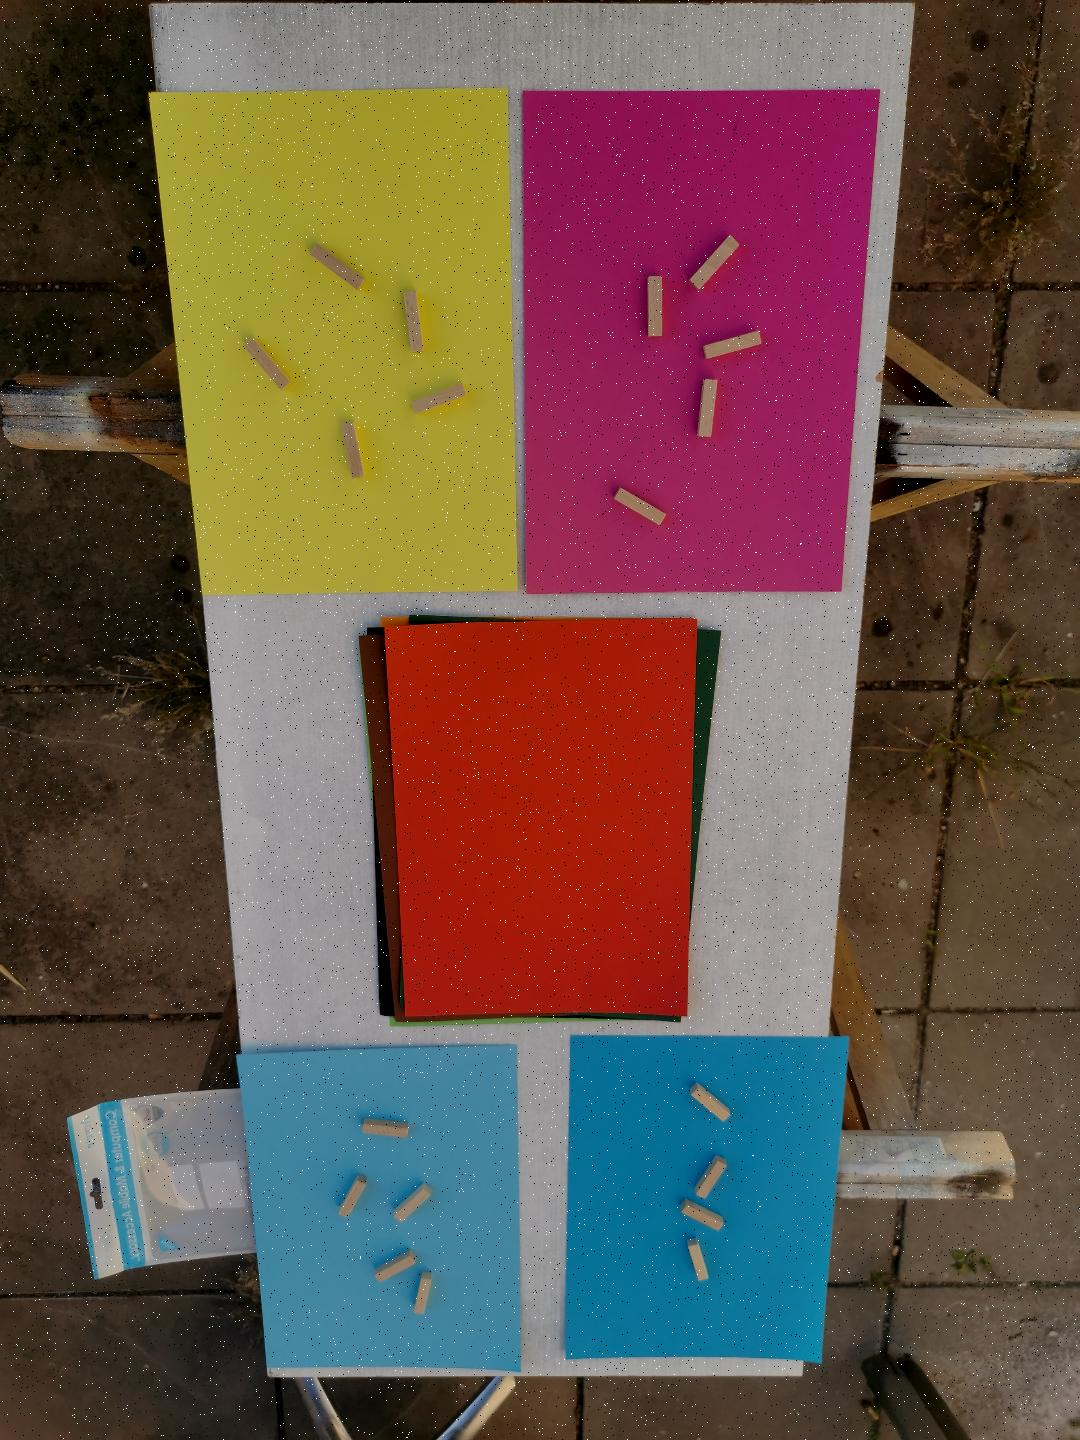jenga: (689, 236, 740, 289), (310, 245, 363, 289), (245, 338, 289, 388), (613, 486, 667, 526), (689, 1083, 732, 1123), (411, 382, 464, 414), (703, 332, 762, 357), (374, 1248, 416, 1282), (340, 422, 365, 478), (694, 1155, 726, 1198), (394, 1184, 430, 1221), (403, 289, 424, 351), (338, 1176, 369, 1218), (681, 1201, 723, 1229), (698, 376, 717, 435), (647, 276, 664, 338), (686, 1237, 709, 1280), (363, 1119, 407, 1140), (413, 1271, 433, 1313)
